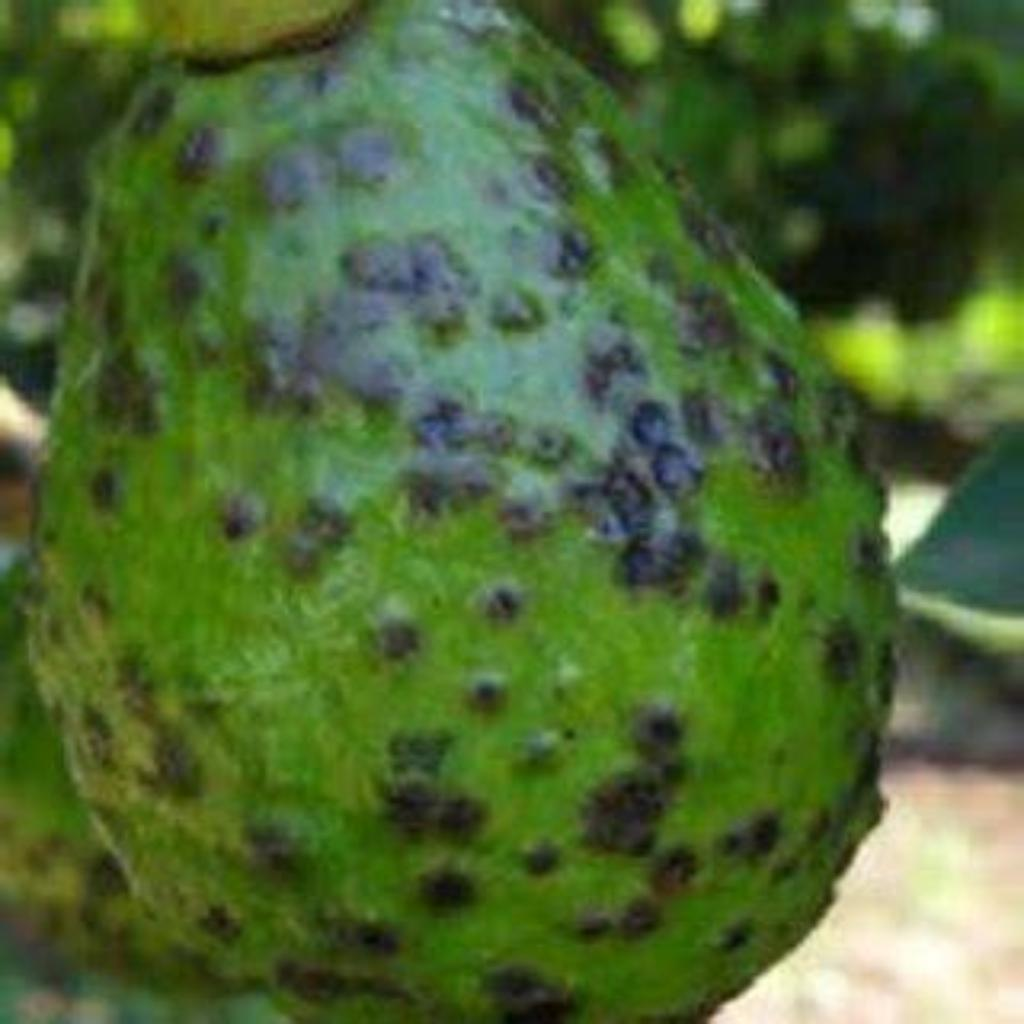cercospora: (28, 46, 879, 1016)
